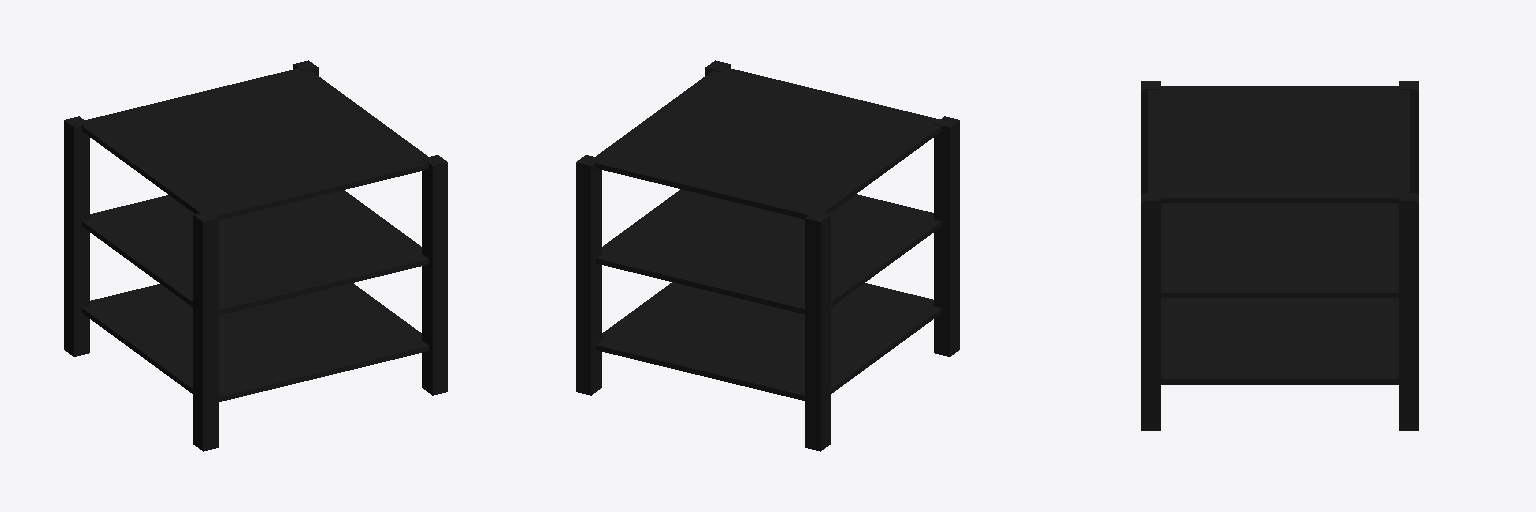
The model's file is shelves_v1.obj.
The picture shows the model from 3 angles: view 1: azimuth 30°, elevation 25°; view 2: azimuth 150°, elevation 25°; view 3: azimuth 270°, elevation 25°; orthographic projection.
Parts seen in each view (by area): view 1: shelves, branches; view 2: shelves, branches; view 3: shelves, branches.
Part boxes in pixels (x1,y1,x2,y2): shelves: (82,68,428,401); branches: (64,60,447,451); shelves: (596,68,941,400); branches: (576,60,959,451); shelves: (1148,86,1409,384); branches: (1141,81,1418,430).
Size of the model in its own units: 1.05 by 0.94 by 1.03.